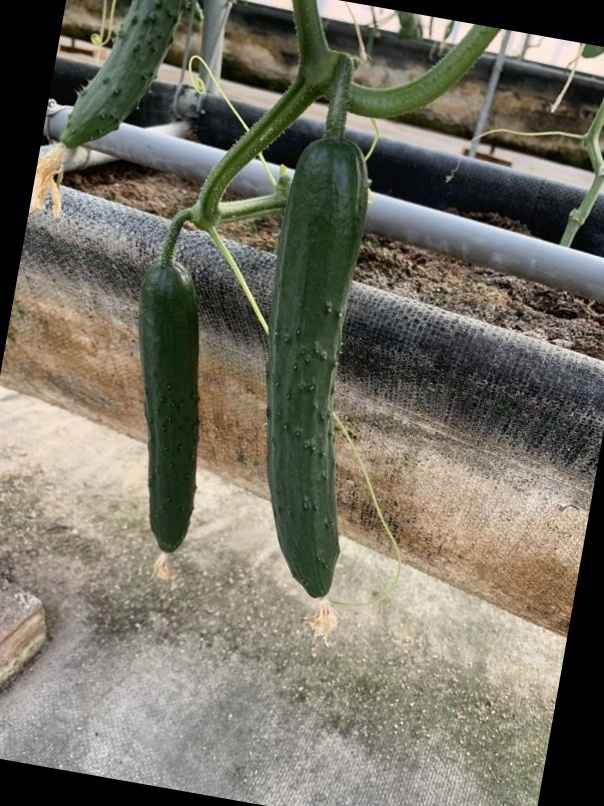mature: (263, 144, 372, 611), (128, 254, 206, 566)
